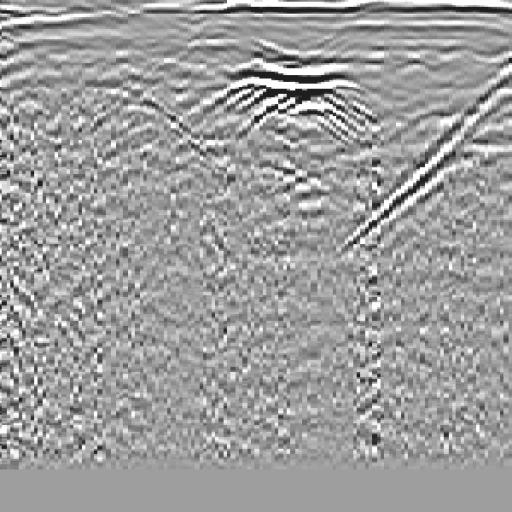metalic: (182, 36, 392, 154)
